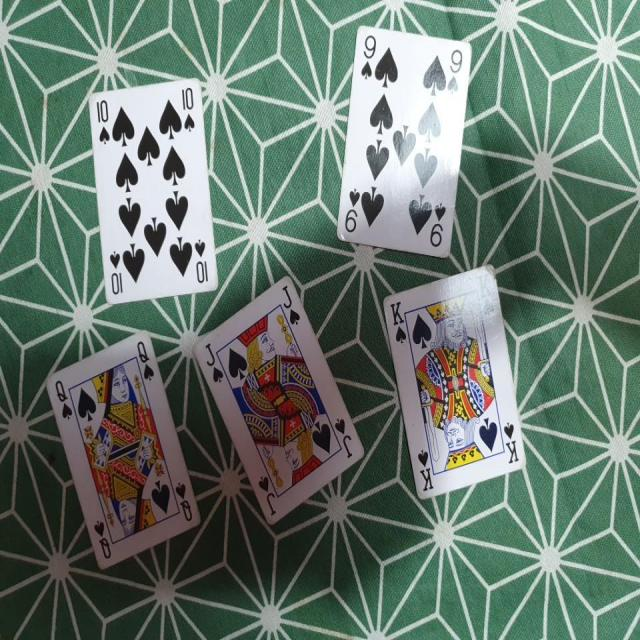10 Spades: (84, 68, 221, 300)
9 Spades: (335, 15, 474, 262)
J Spades: (188, 274, 365, 524)
K Spades: (378, 257, 527, 496)
Q Spades: (45, 329, 204, 570)
